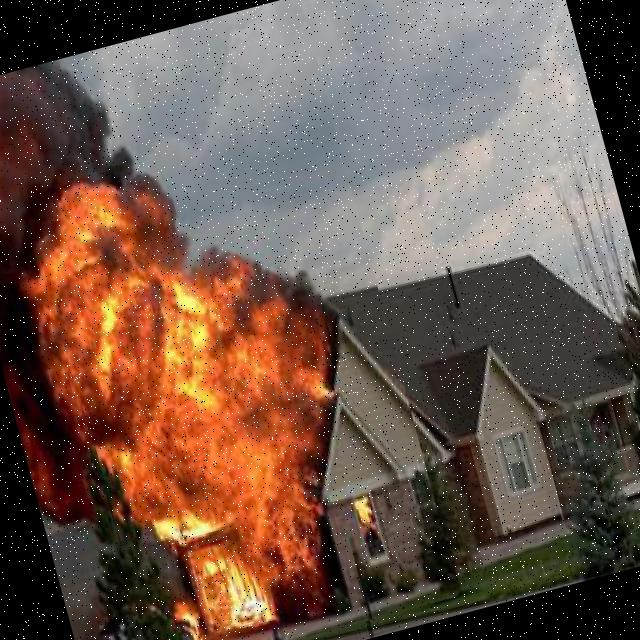fire: (0, 0, 460, 640)
